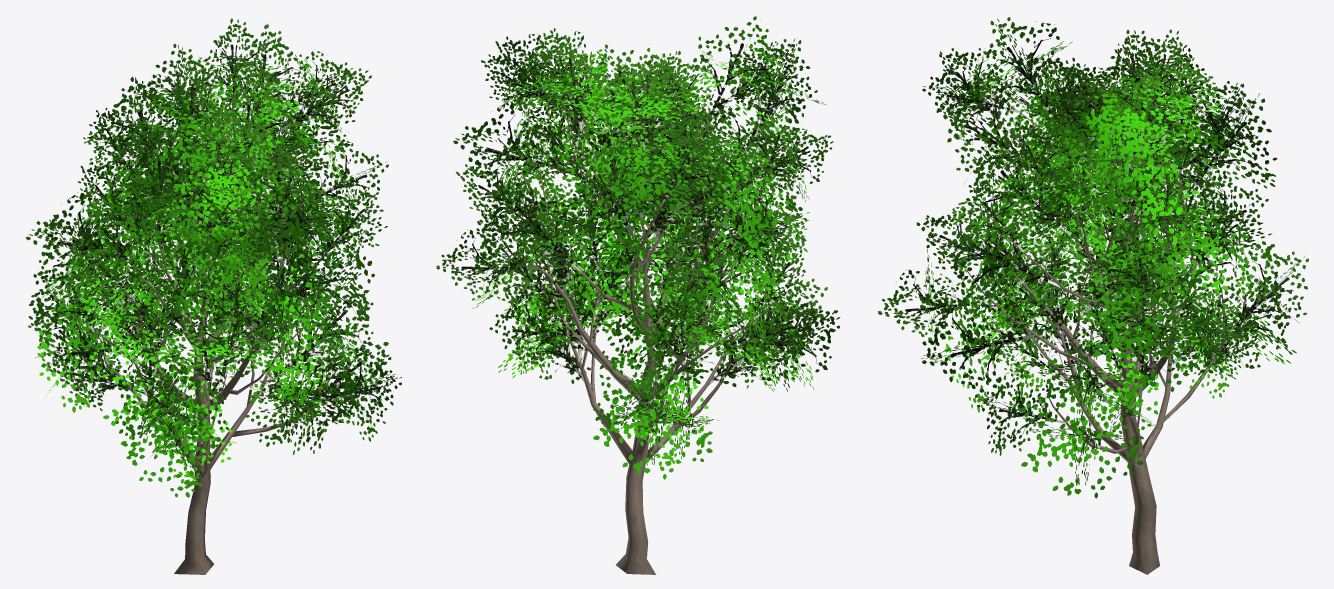
Rendered from tree_Broadleaf_L1_LOD1.fbx.
3 renders of one model, left to right at view 1: azimuth 30°, elevation 25°; view 2: azimuth 150°, elevation 25°; view 3: azimuth 270°, elevation 25°, orthographic. The views are drawn at different scales.
Visible parts, largest first — view 1: Broadleaf_L1_LOD1; view 2: Broadleaf_L1_LOD1; view 3: Broadleaf_L1_LOD1.
Part boxes in pixels (x1,y1,x2,y2): Broadleaf_L1_LOD1: [26, 18, 401, 574]; Broadleaf_L1_LOD1: [436, 16, 840, 574]; Broadleaf_L1_LOD1: [877, 17, 1308, 574].
Bounding box in the file's own units: 1208 × 1819 × 1347.
